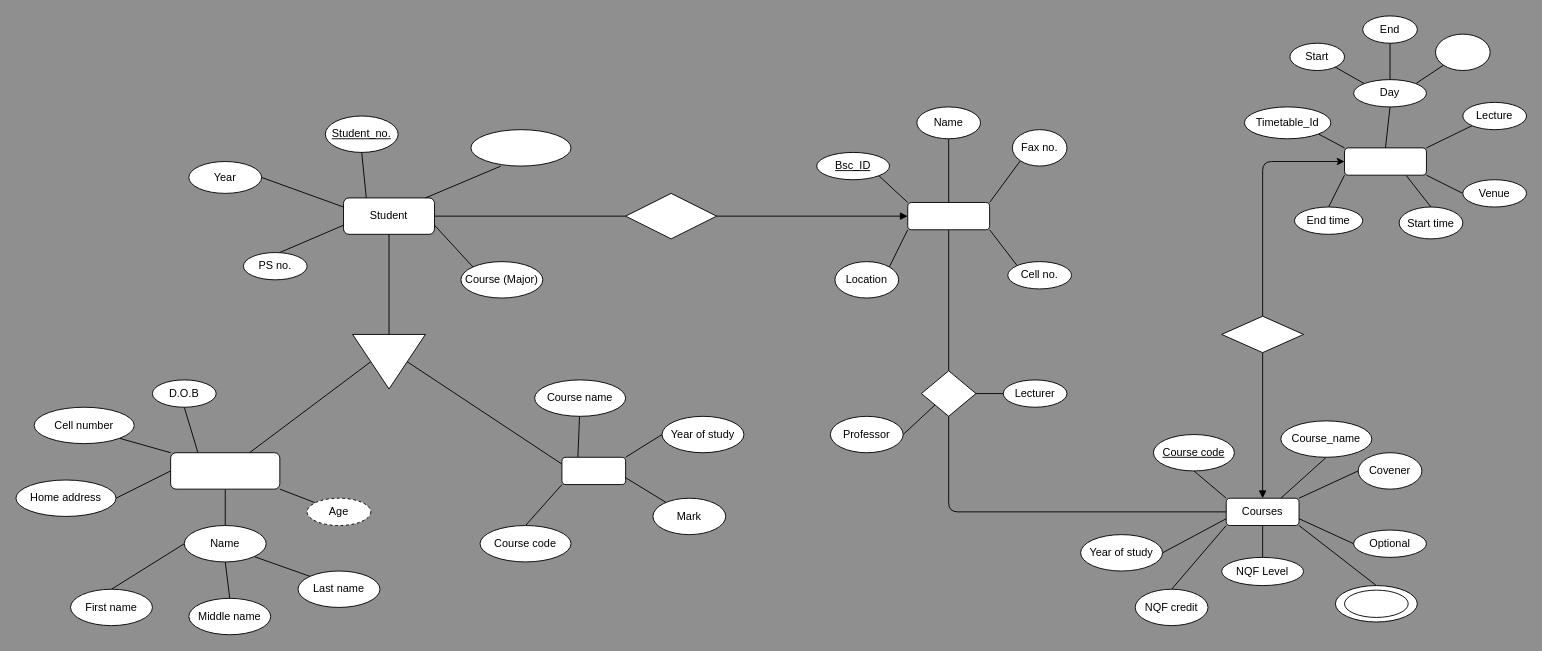
Image size: 1542x651. Some labels were removed from this diagram. The centre of each missing label's shape, as x and y in pixels:
"Bsc Major" goes at point (948, 216).
"Department" goes at point (520, 147).
"Exclude" goes at point (1462, 52).
"Has" goes at point (948, 393).
"Interested" goes at point (671, 215).
"ISA" goes at point (388, 361).
"Personal details" goes at point (225, 470).
"Prereqs" goes at point (1376, 603).
"Results" goes at point (593, 470).
"Schedule" goes at point (1262, 334).
"Timetable" goes at point (1385, 161).
